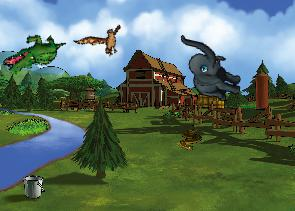crocodile: (0, 20, 67, 88)
eagle: (73, 12, 132, 69)
elephant: (169, 34, 249, 104)
